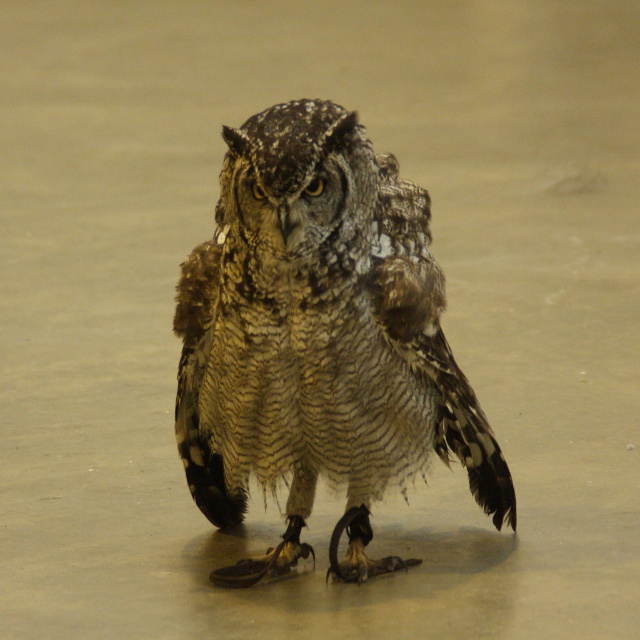Owl: (170, 94, 521, 594)
